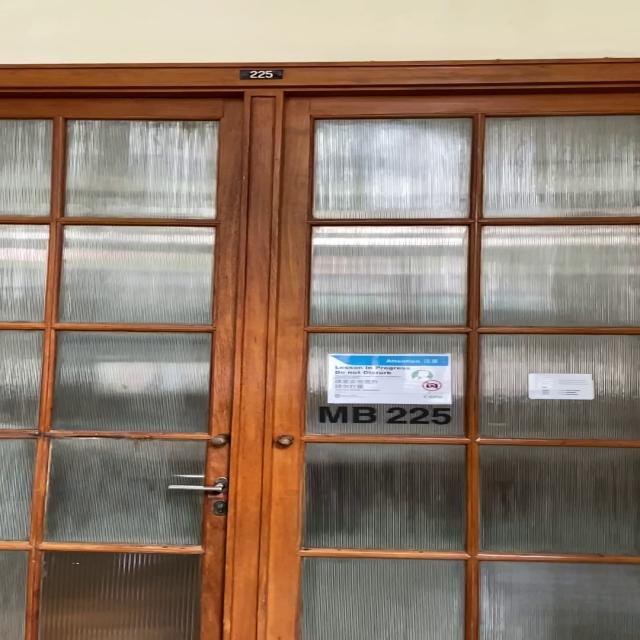room225: (236, 69, 286, 80)
room225Window: (314, 404, 456, 426)
